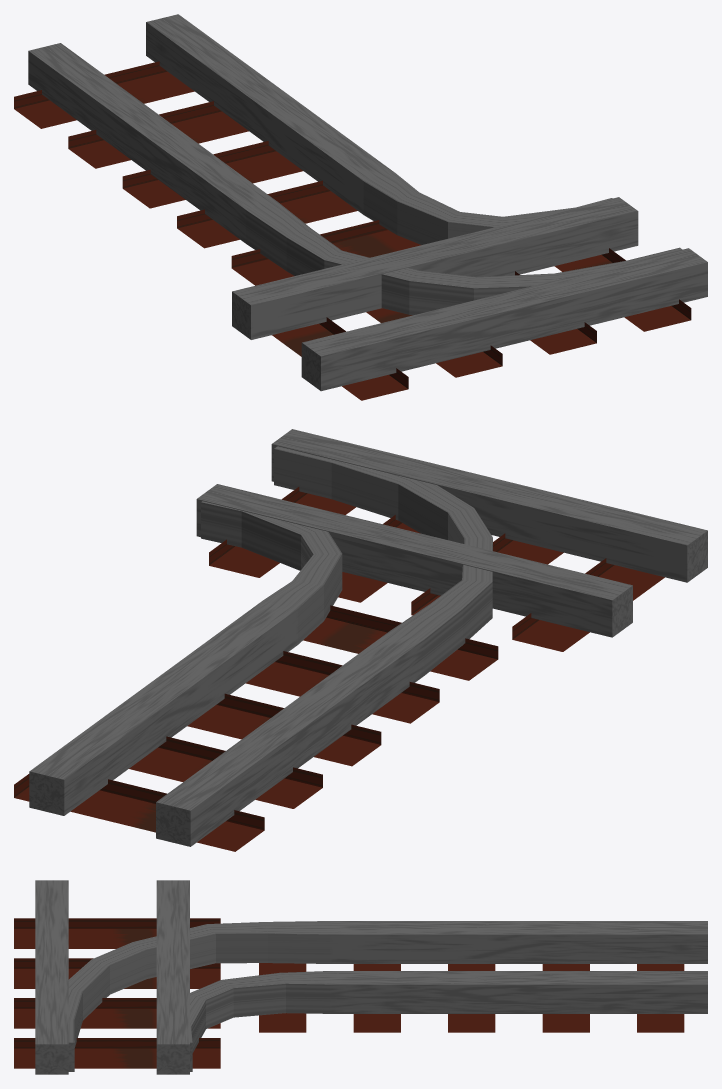
The model's file is RailsT.fbx.
The picture shows the model from 3 angles, top to bottom: view 1: azimuth 30°, elevation 25°; view 2: azimuth 150°, elevation 25°; view 3: azimuth 270°, elevation 25°; orthographic projection. The views are drawn at different scales.
Parts seen in each view (by area): view 1: Cube.034, Cube.042, Cube.033, Cube.038, Cube.037; view 2: Cube.034, Cube.042, Cube.033, Cube.038, Cube.037; view 3: Cube.034, Cube.042, Cube.038, Cube.033, Cube.037.
Boxes of the visible parts, x1,y1,x2,y2 form: Cube.034: [28, 14, 682, 315]; Cube.042: [232, 197, 707, 391]; Cube.033: [14, 61, 357, 248]; Cube.038: [272, 248, 691, 400]; Cube.037: [231, 220, 421, 285]; Cube.034: [29, 446, 492, 846]; Cube.042: [196, 429, 707, 637]; Cube.033: [14, 651, 439, 851]; Cube.038: [209, 487, 664, 651]; Cube.037: [303, 605, 498, 680]; Cube.034: [68, 921, 707, 1071]; Cube.042: [35, 880, 189, 1074]; Cube.038: [14, 918, 220, 1068]; Cube.033: [353, 964, 684, 1032]; Cube.037: [259, 963, 306, 1032].
Bounding box in the file's own units: 6.57 × 0.6843 × 11.75.
